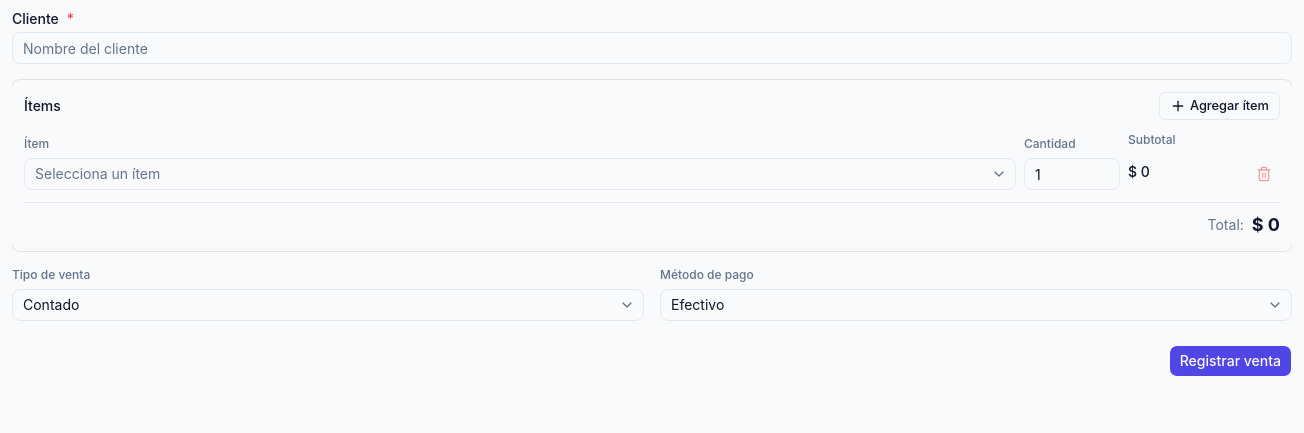
Test: SaleForm — validación › bloquea el registro si falta el cliente
This screenshot has width=1304, height=433.
Step 1. Click the dropdown named "ítem 1" → (98, 174), box [24,158,1016,190]
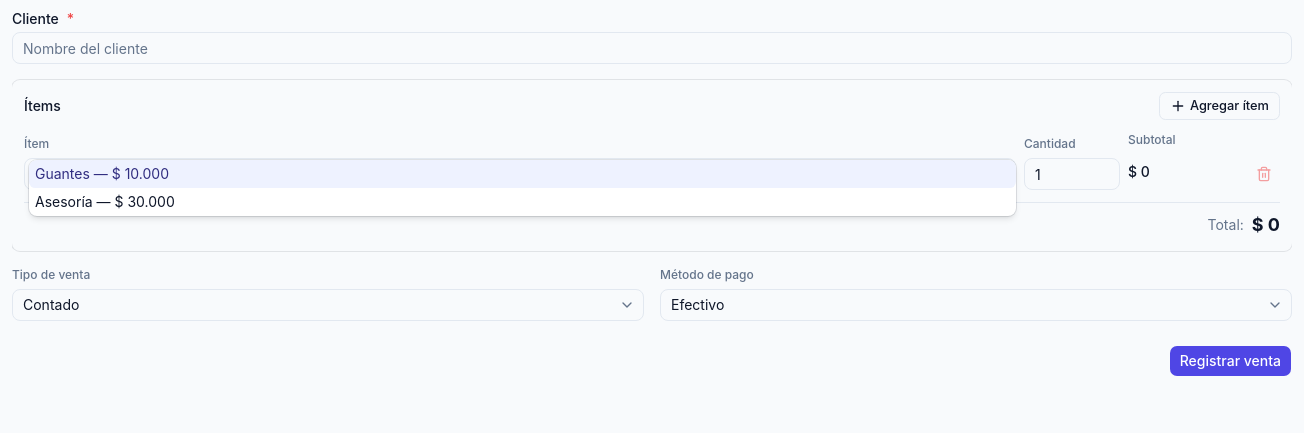
Step 2. Click the option "Guantes — $ 10.000" → (62, 174), box [29,160,1016,188]
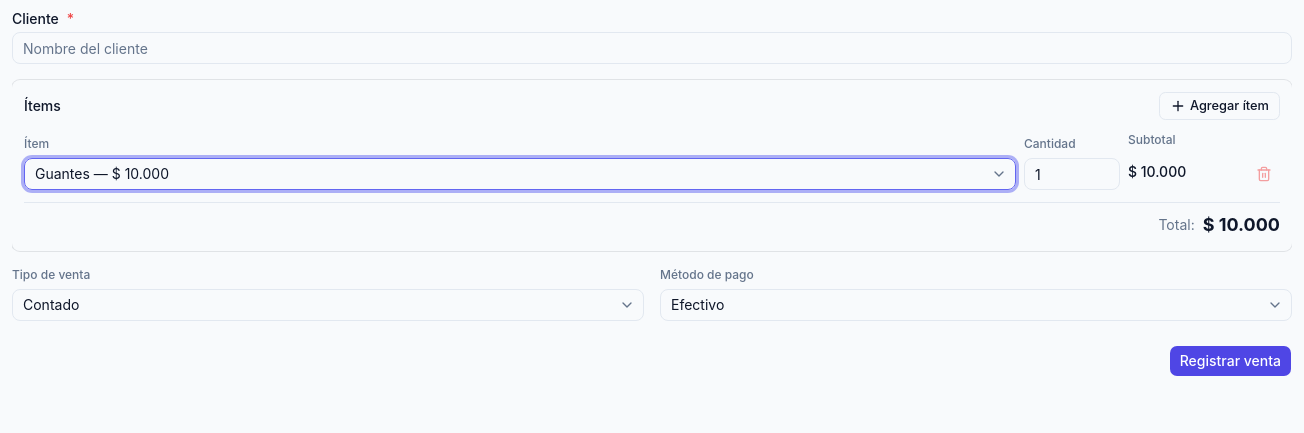
Step 3. Click the button "Registrar venta" → (1230, 361), box [1169,345,1292,377]
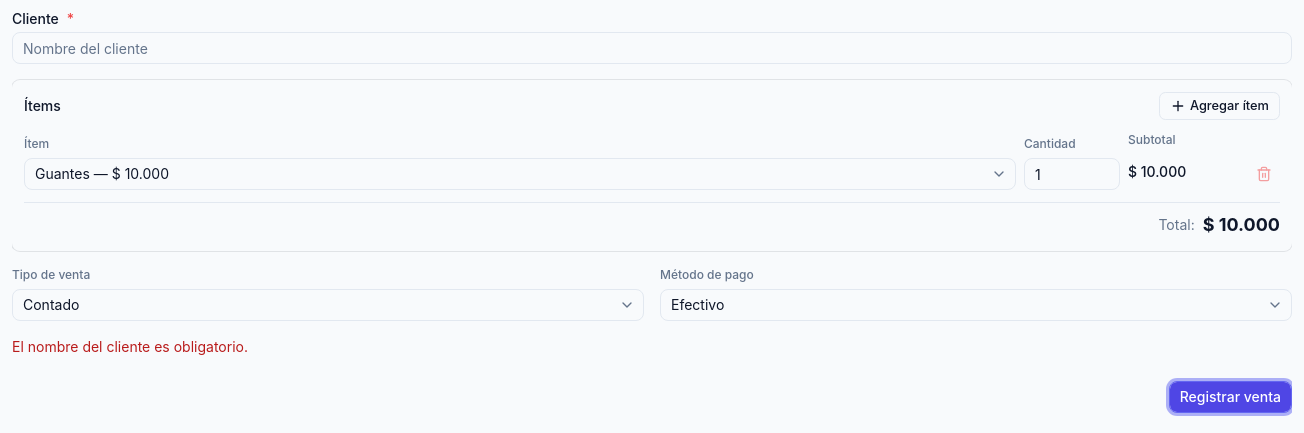
expect the text "El nombre del cliente es obligatorio." is shown: met, box [12,338,248,355]
